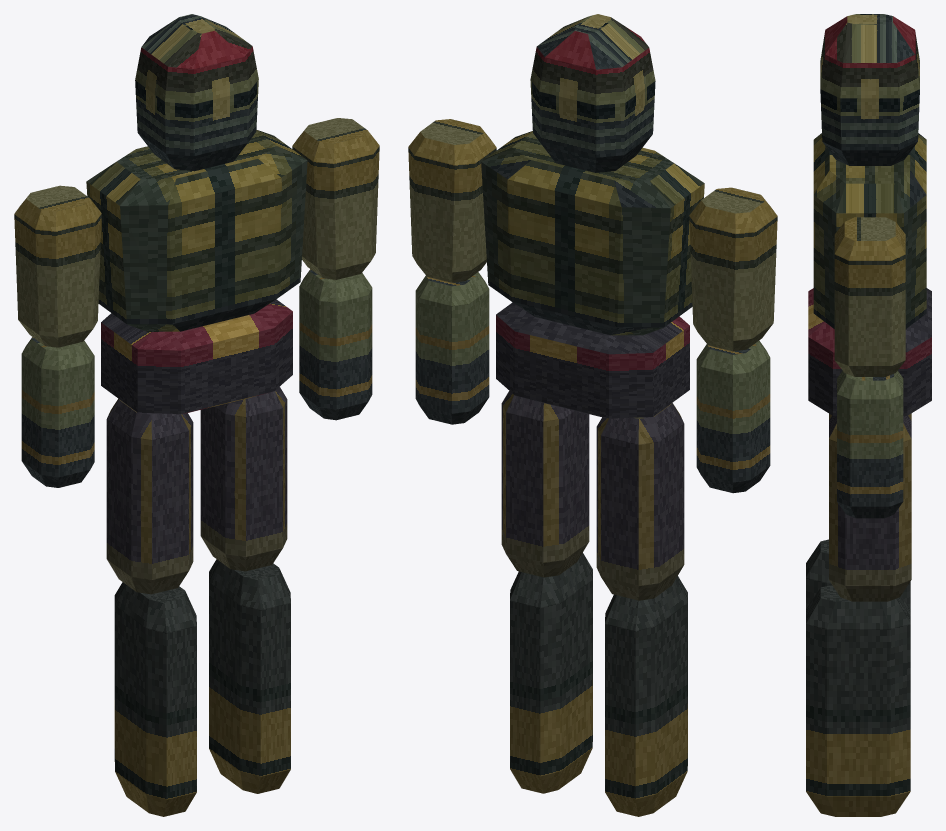
The model's file is scout.glb.
3 views of the same model, side by side, from view 1: azimuth 30°, elevation 25°; view 2: azimuth 150°, elevation 25°; view 3: azimuth 270°, elevation 25° (orthographic).
Visible parts, largest first — view 1: chest, shin-1, shin1, pelvis, head, thigh-1, thigh1, upperArm-1, upperArm1, forearm1, forearm-1; view 2: chest, shin1, shin-1, pelvis, head, thigh-1, thigh1, upperArm-1, upperArm1, forearm1, forearm-1; view 3: shin1, head, chest, upperArm1, forearm1, thigh1, pelvis, shin-1.
Boxes of the visible parts, <box> form: chest: <box>86,129,307,331</box>; shin-1: <box>114,582,196,816</box>; shin1: <box>209,559,290,793</box>; pelvis: <box>101,299,292,413</box>; head: <box>135,14,258,171</box>; thigh-1: <box>106,398,193,594</box>; thigh1: <box>200,386,287,571</box>; upperArm-1: <box>14,185,101,347</box>; upperArm1: <box>292,118,379,279</box>; forearm1: <box>299,269,372,420</box>; forearm-1: <box>21,337,94,487</box>; chest: <box>481,131,704,335</box>; shin1: <box>510,552,592,793</box>; shin-1: <box>605,576,687,816</box>; pelvis: <box>496,302,689,418</box>; head: <box>530,14,655,172</box>; thigh-1: <box>596,403,684,600</box>; thigh1: <box>501,391,589,577</box>; upperArm-1: <box>689,187,777,351</box>; upperArm1: <box>408,119,496,282</box>; forearm1: <box>415,272,489,424</box>; forearm-1: <box>696,340,770,493</box>; shin1: <box>806,585,910,816</box>; head: <box>820,14,919,165</box>; chest: <box>813,133,926,328</box>; upperArm1: <box>834,217,905,376</box>; forearm1: <box>837,370,903,518</box>; thigh1: <box>829,415,911,601</box>; pelvis: <box>808,288,931,415</box>; shin-1: <box>806,539,910,608</box>.
Size of the model in its own units: 0.8421 by 1.78 by 0.265.
Materials: 1 (1 with a texture image).
